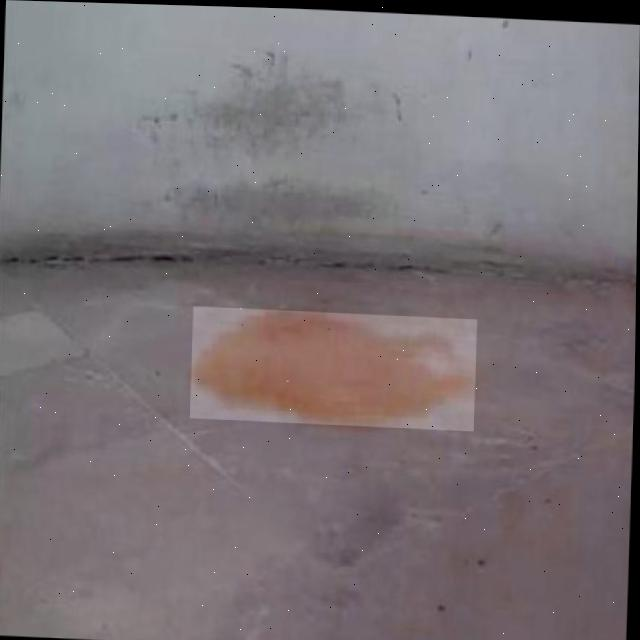spillage: (193, 308, 476, 424)
